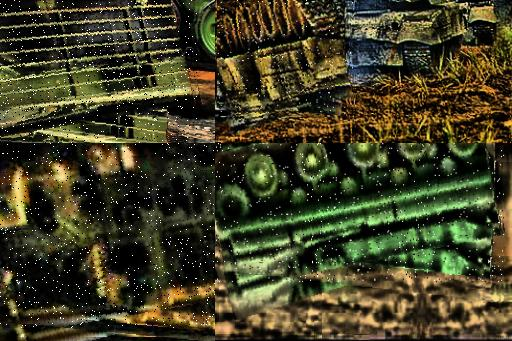tanks: (216, 144, 505, 283), (1, 144, 216, 329), (1, 1, 197, 142), (219, 1, 355, 115), (309, 1, 467, 76), (454, 1, 499, 46)
